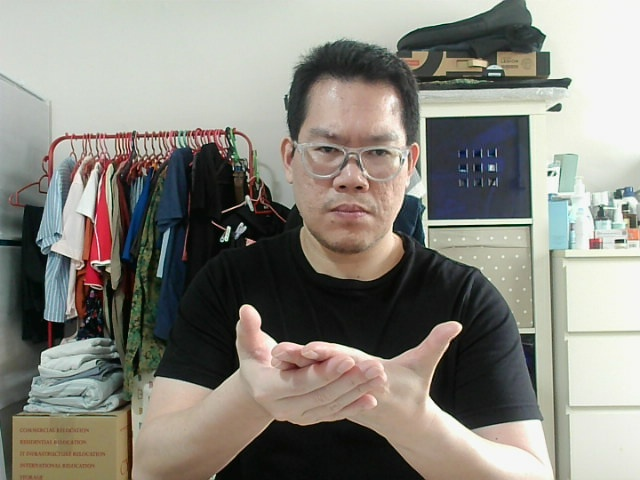good: (247, 314, 372, 423)
